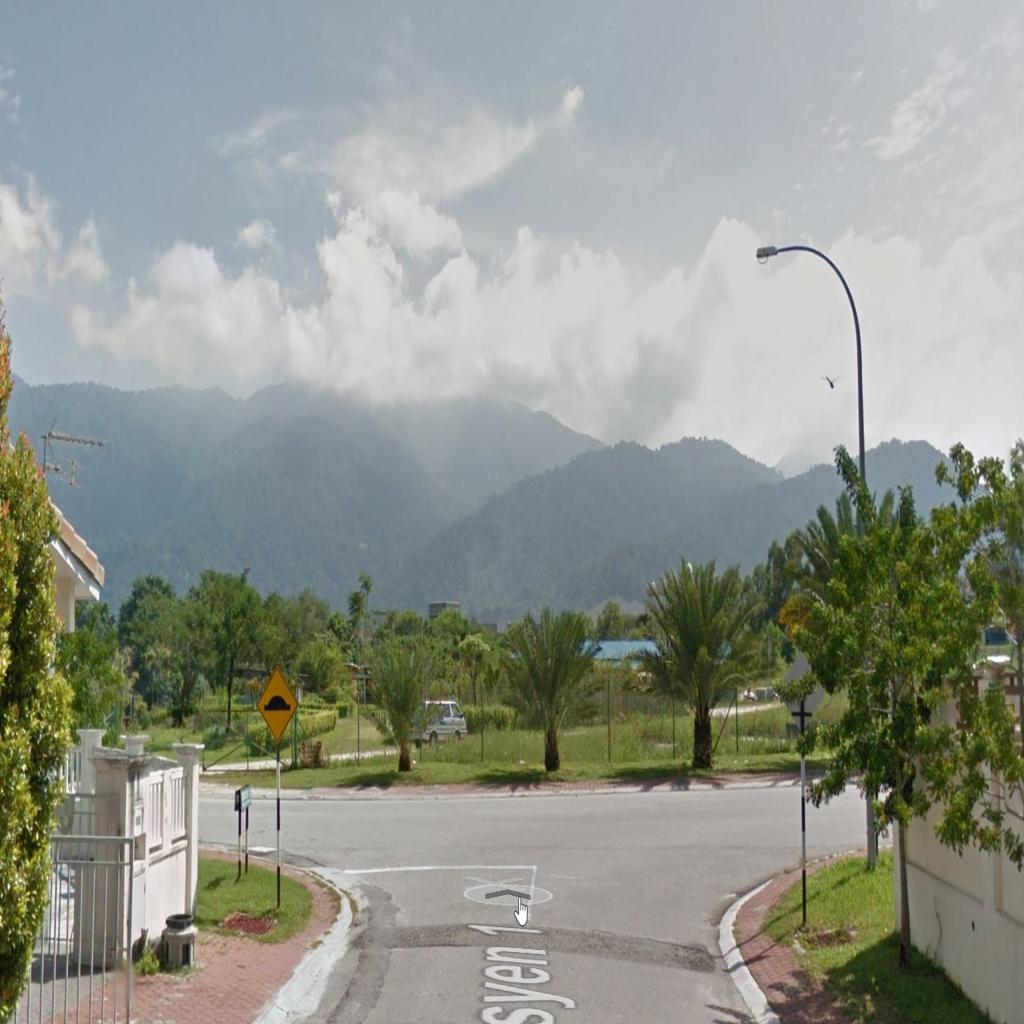Junction: (668, 749, 883, 936), (203, 771, 412, 951)
